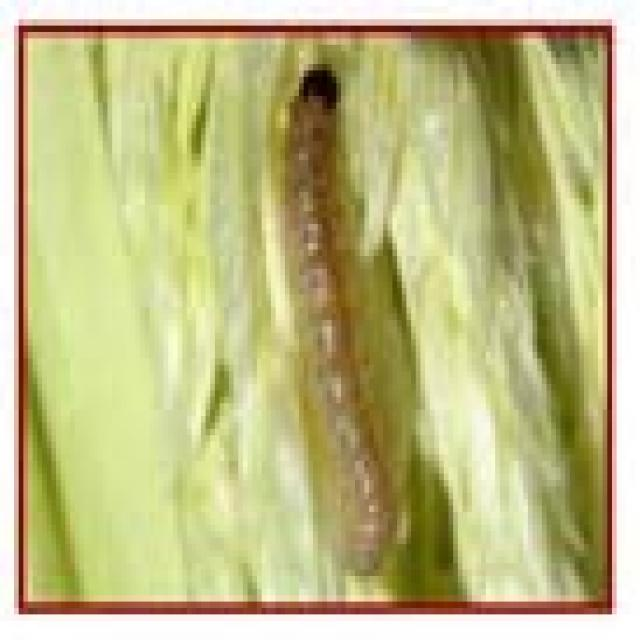cornborer-Larva-: (266, 42, 428, 584)
